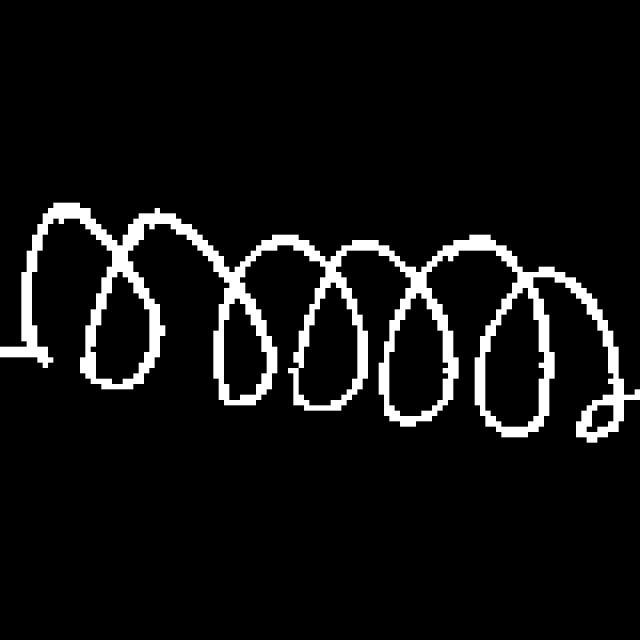inductor: (12, 192, 630, 468)
